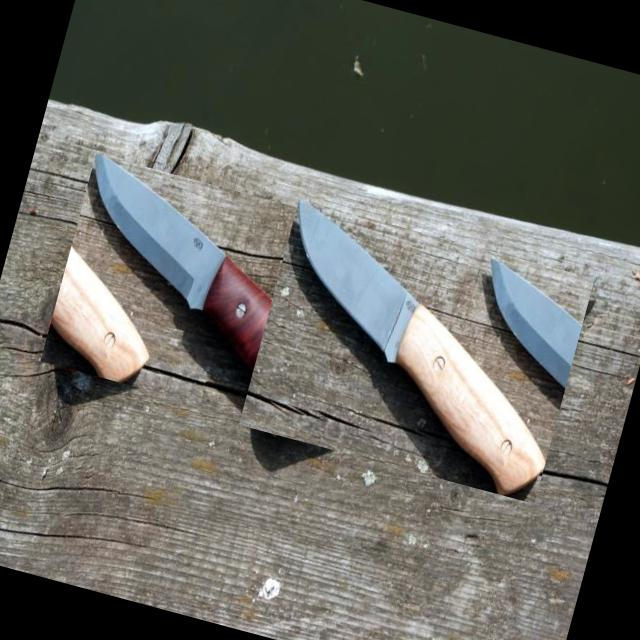Knife: (299, 200, 544, 495), (95, 154, 352, 433)
